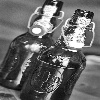beer: (4, 1, 64, 93)
